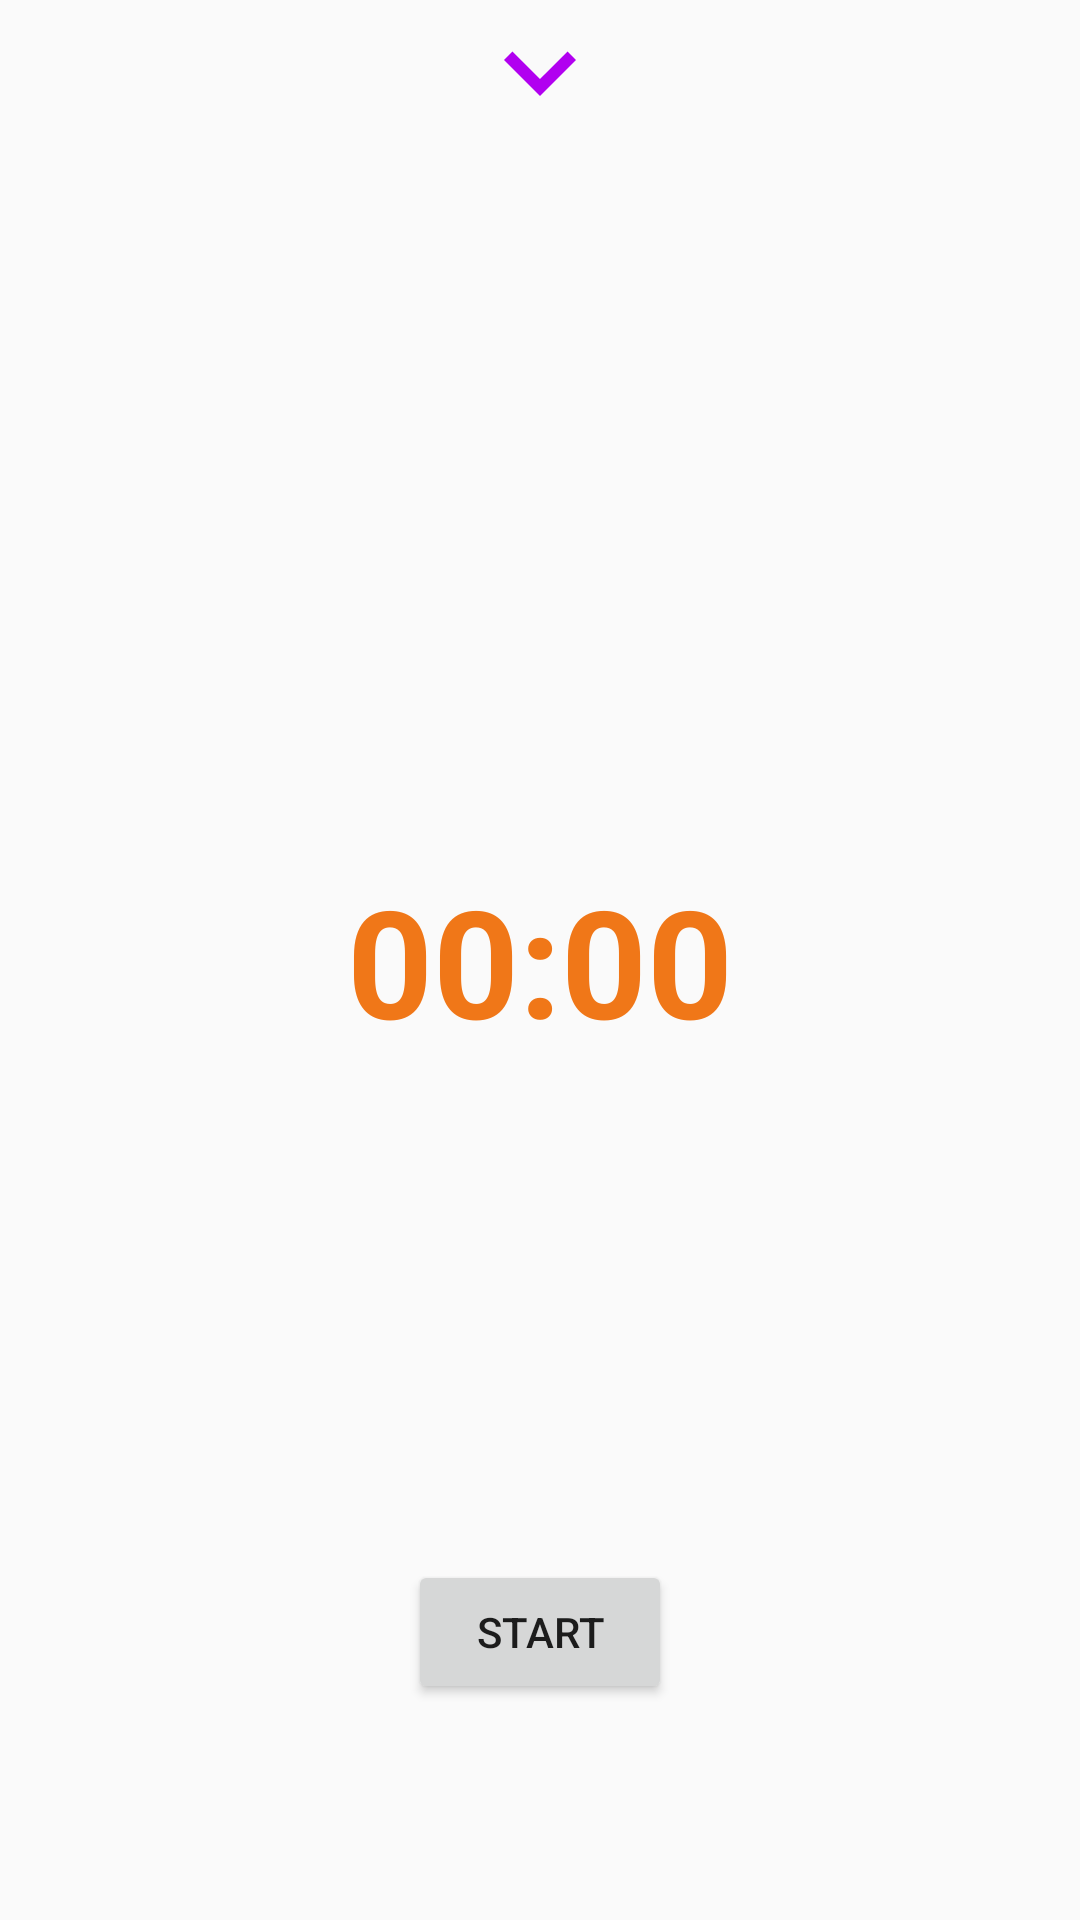

Screen size 1080 × 1920. Icon name, then its box in pixels as (left=x1, top=y1, right=x2, bottom=y2):
Show music manage layout: (left=504, top=51, right=576, bottom=96)
